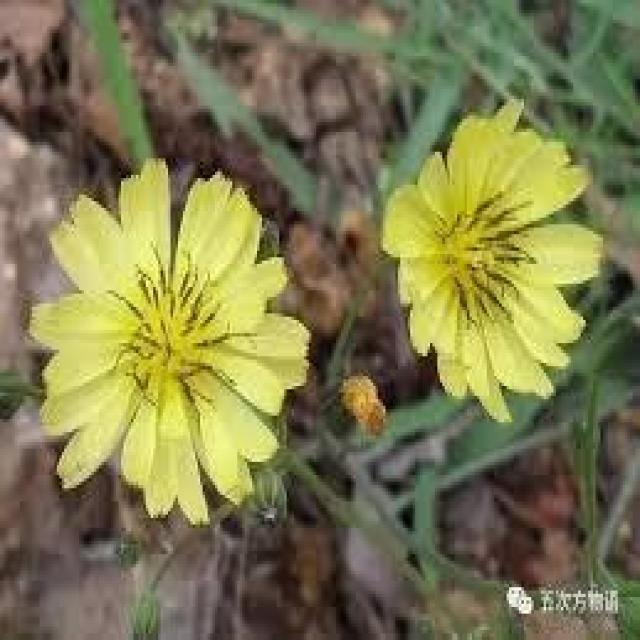organic waste: (40, 155, 312, 531), (384, 101, 617, 394)
